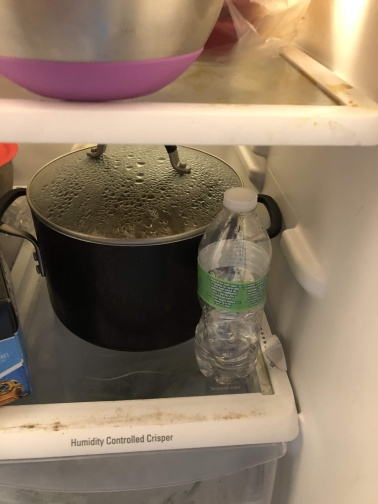bottle: (188, 185, 275, 388)
